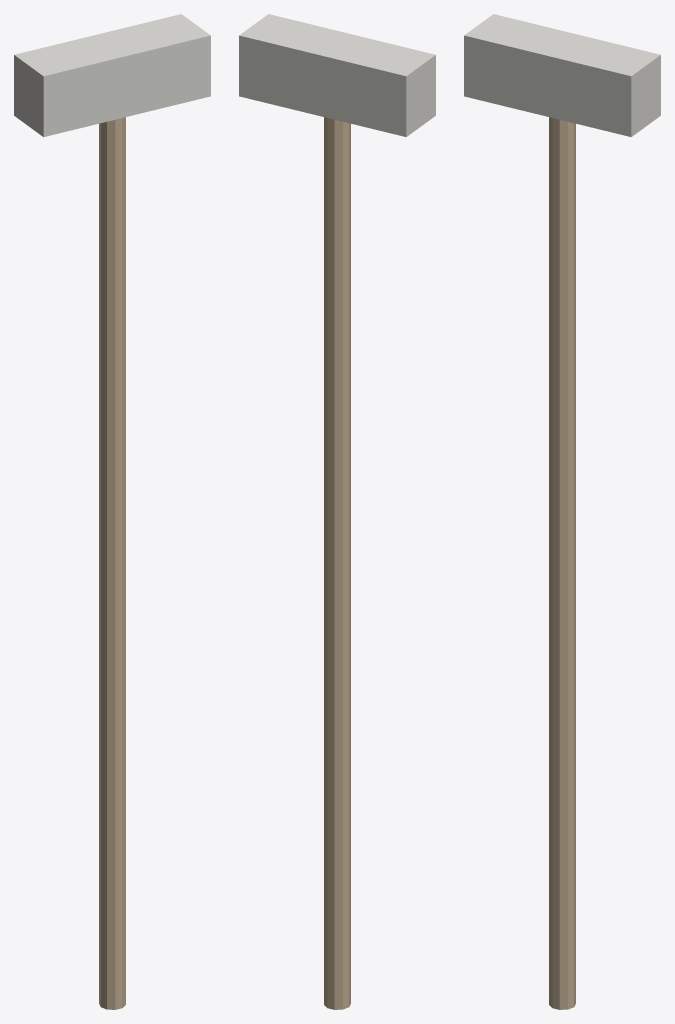
File: mop.glb
3 views of the same model, side by side, from view 1: azimuth 30°, elevation 25°; view 2: azimuth 150°, elevation 25°; view 3: azimuth 330°, elevation 25° (orthographic).
Parts seen in each view (by area): view 1: NC_mop; view 2: NC_mop; view 3: NC_mop.
Part boxes in pixels (x1,y1,x2,y2): NC_mop: [14, 14, 210, 1009]; NC_mop: [239, 14, 435, 1009]; NC_mop: [464, 14, 660, 1009].
Bounding box in the file's own units: 0.23 × 1.26 × 0.07.
